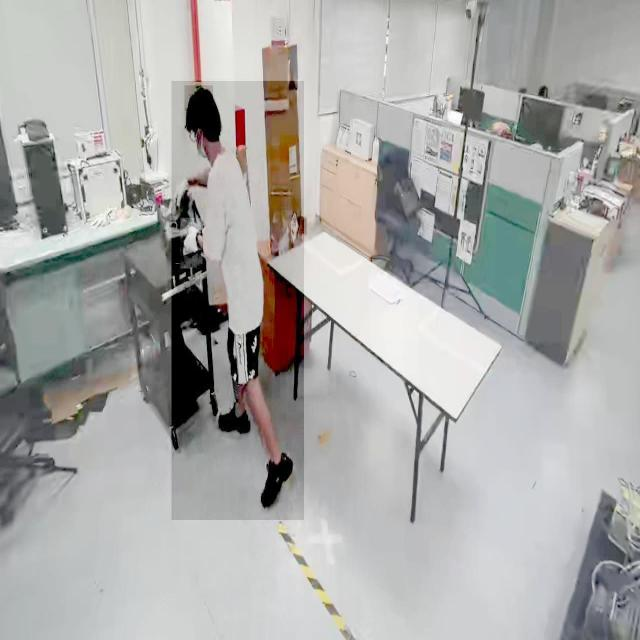hand_glove: (180, 218, 202, 268)
head_nohelmet: (184, 85, 213, 112)
person: (172, 81, 304, 521)
shoes: (260, 452, 294, 514), (217, 400, 252, 438)
